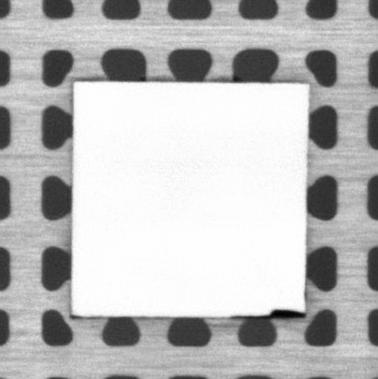DIE_BROKEN: (265, 306, 306, 320)
